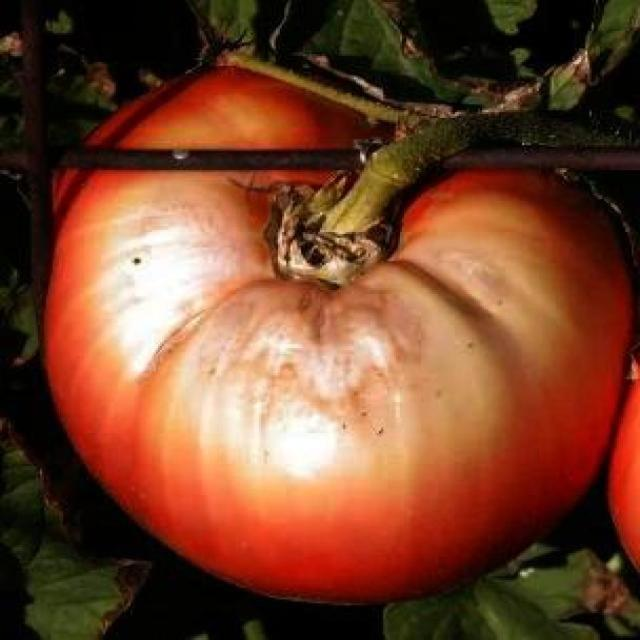Sunscald Fruit: (63, 123, 375, 351)
